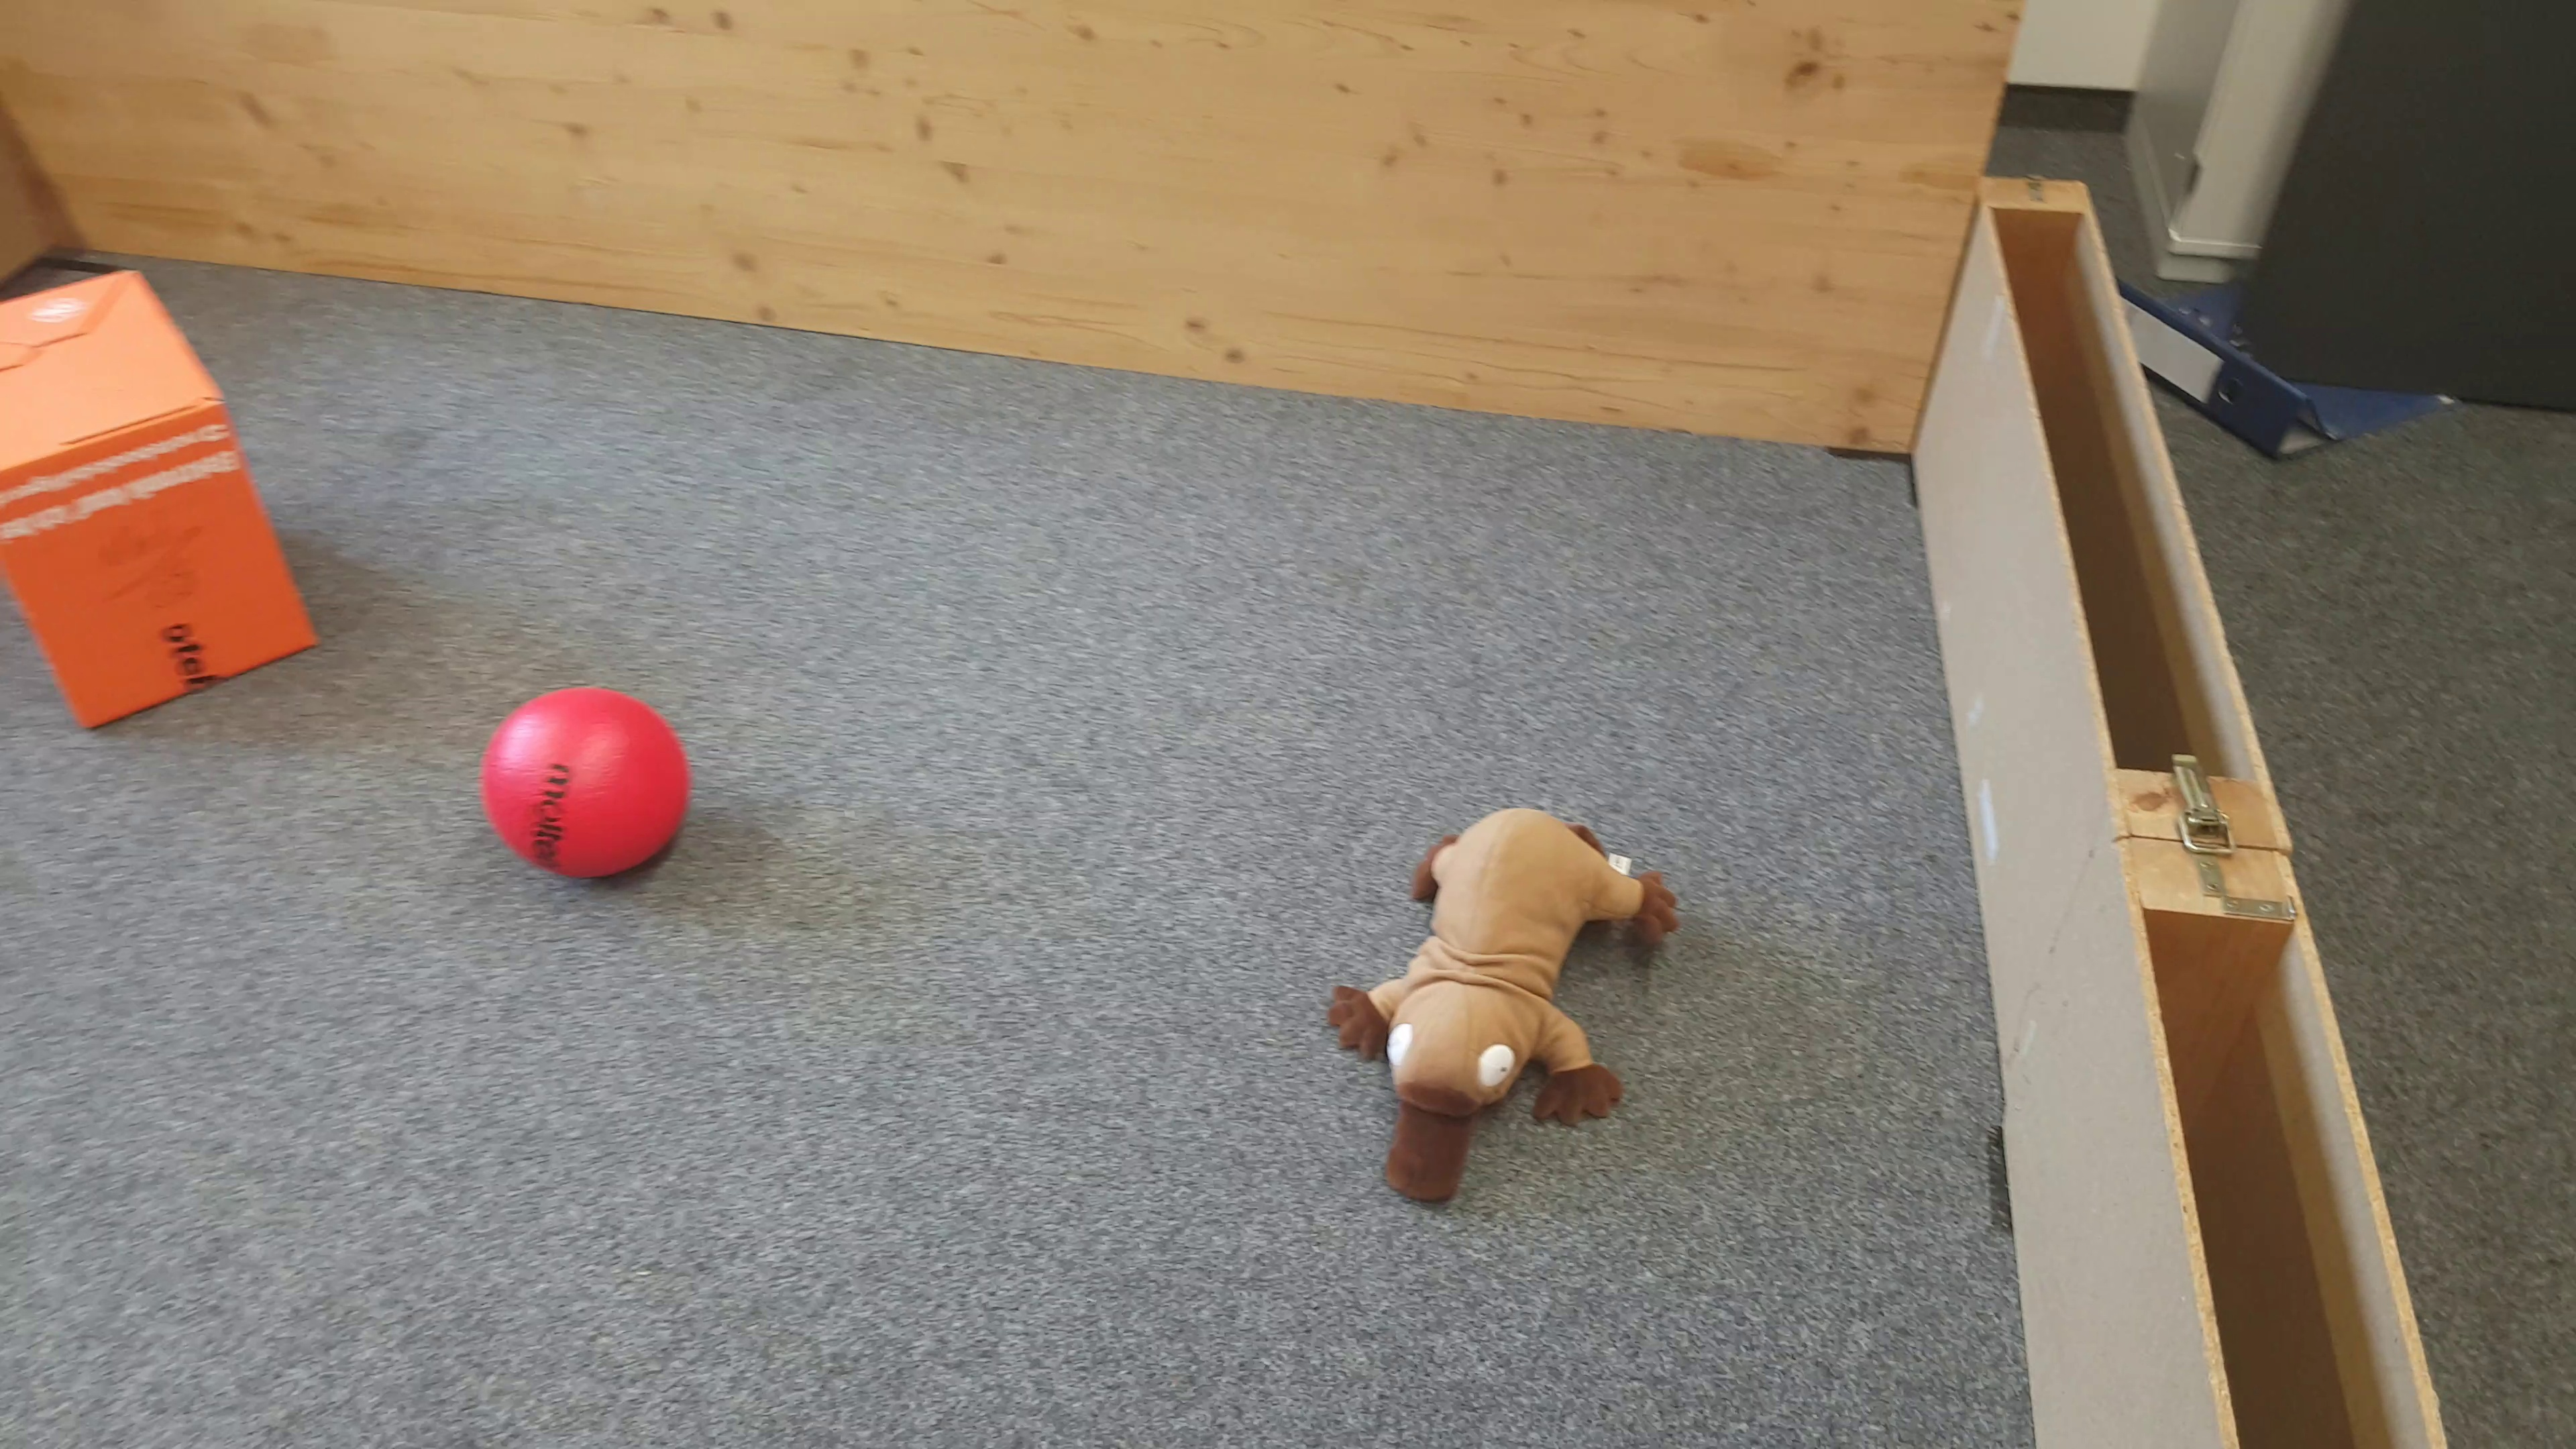grasp: (1329, 796, 1688, 1212)
kick: (478, 686, 695, 876)
push: (4, 267, 313, 729)
